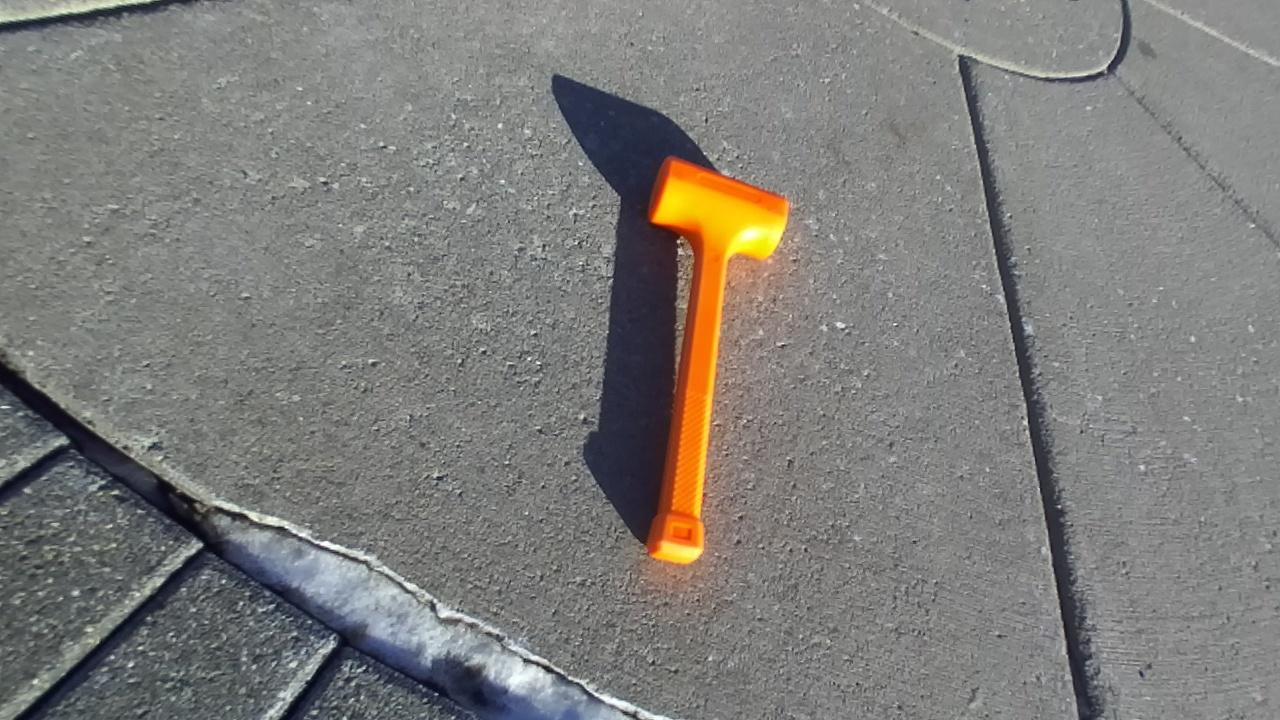mallet: (646, 156, 788, 563)
